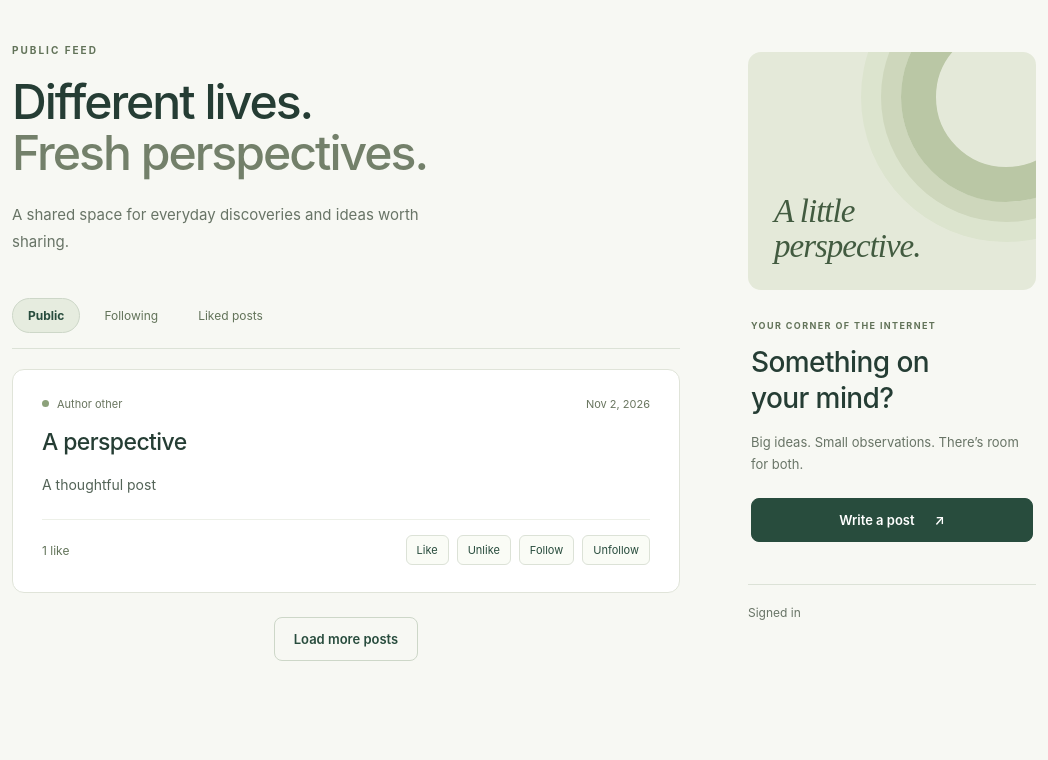
pagination deduplicates posts and retries the failed page
This screenshot has width=1048, height=760.
Click the button "Load more posts": (346, 639) [274,617,418,661]
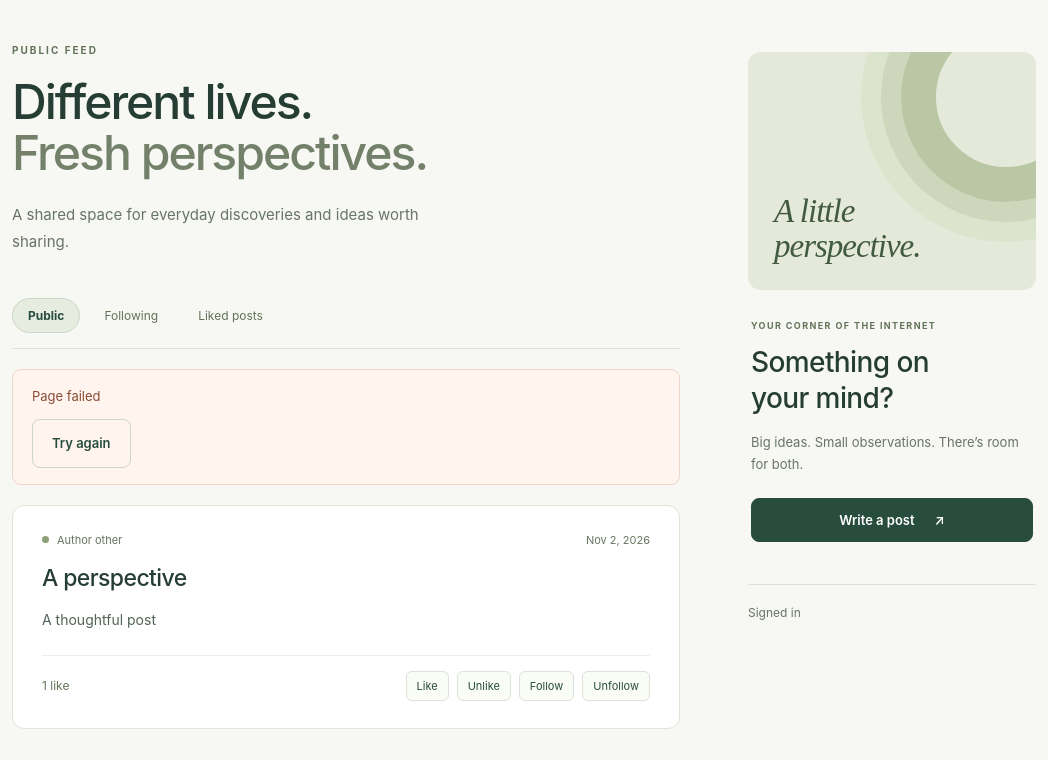
Expected: the message shows "Page failed", [32,388,101,404]
Click the button "Try again": (81, 443) [32,419,131,468]
(page scrolled)
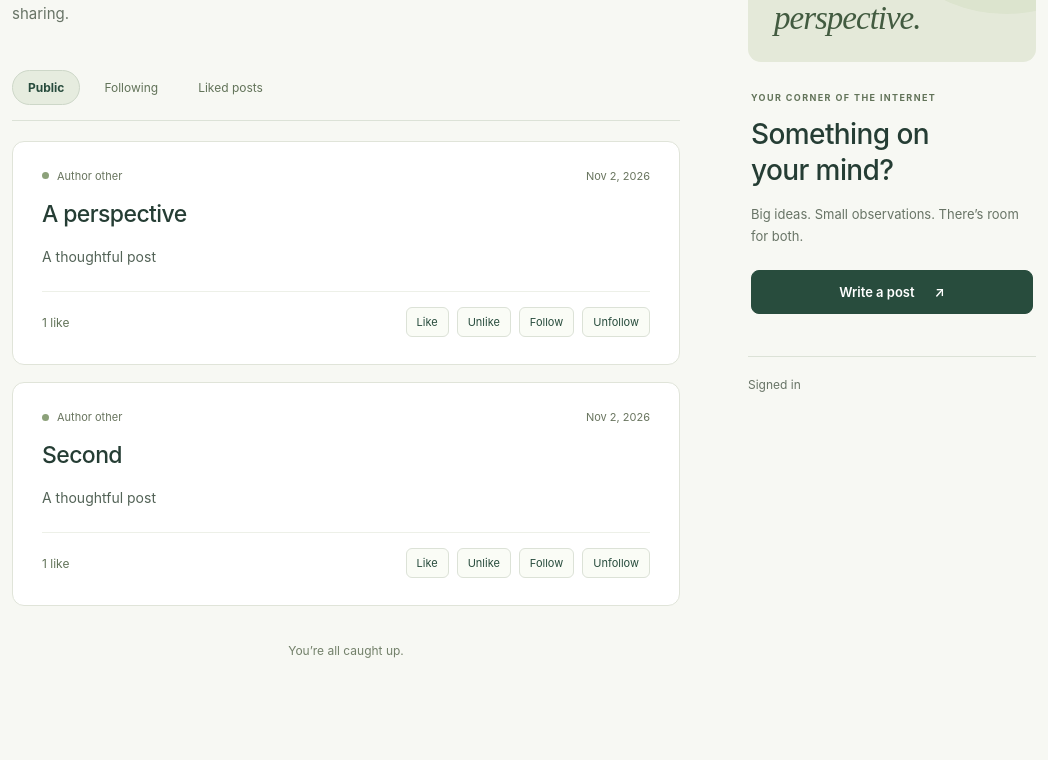
Expected: the heading "Second" is shown, [42,441,122,469]
Expected: the number of headings "A perspective" is 1, [42,200,187,228]
Expected: the text "You’re all caught up." is shown, [288,643,404,658]
